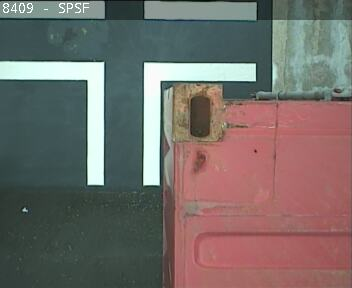groundmarker_1: (1, 59, 256, 187)
